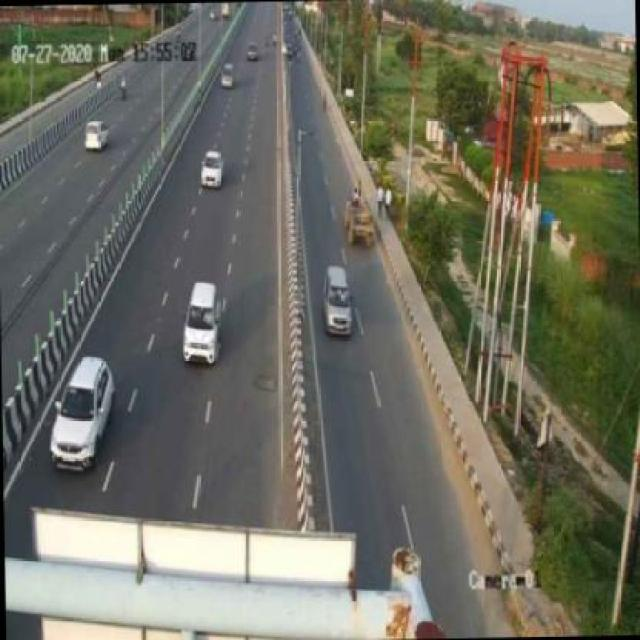car: (36, 346, 126, 474), (175, 275, 228, 368), (312, 262, 357, 342), (200, 148, 223, 188), (85, 120, 109, 152), (218, 58, 240, 92)
